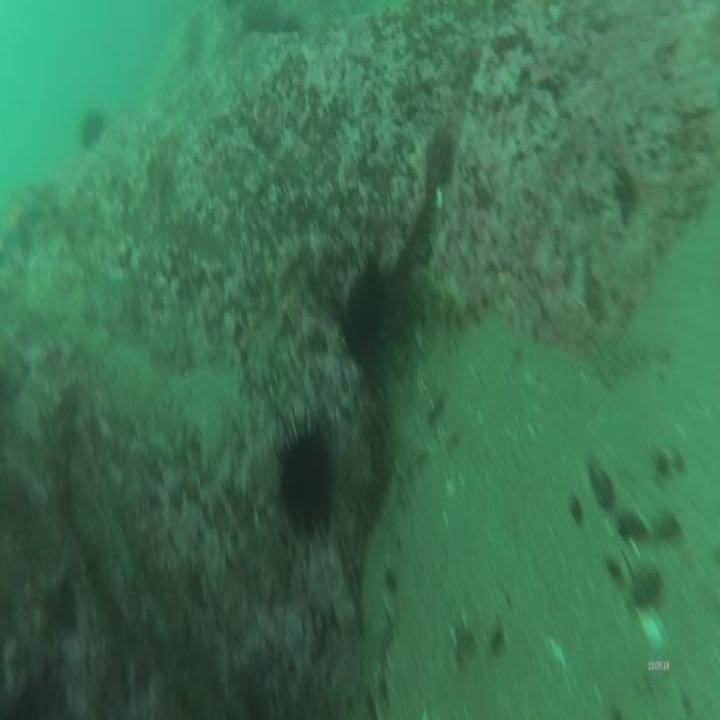echinus: (278, 418, 338, 542), (339, 246, 388, 371), (79, 105, 107, 160)
